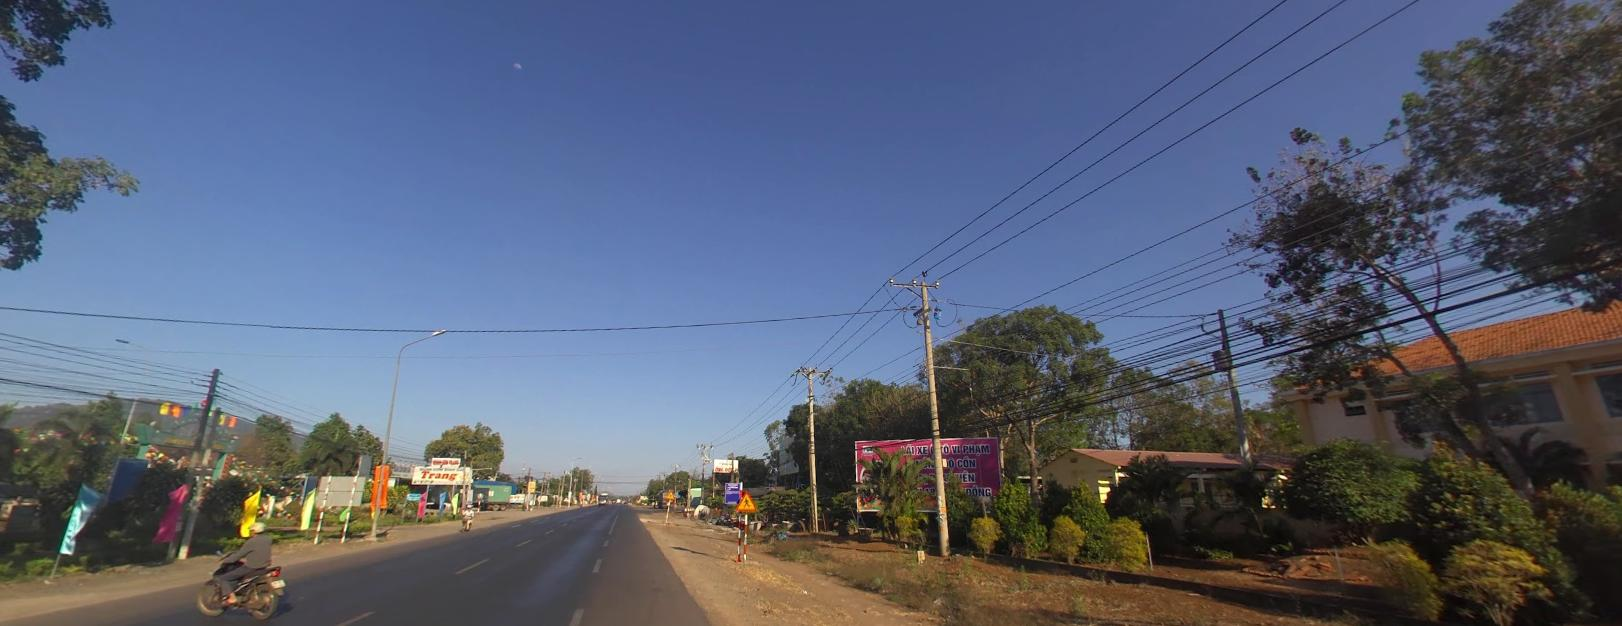Nguy hiem: (735, 490, 757, 510), (665, 489, 674, 498)
